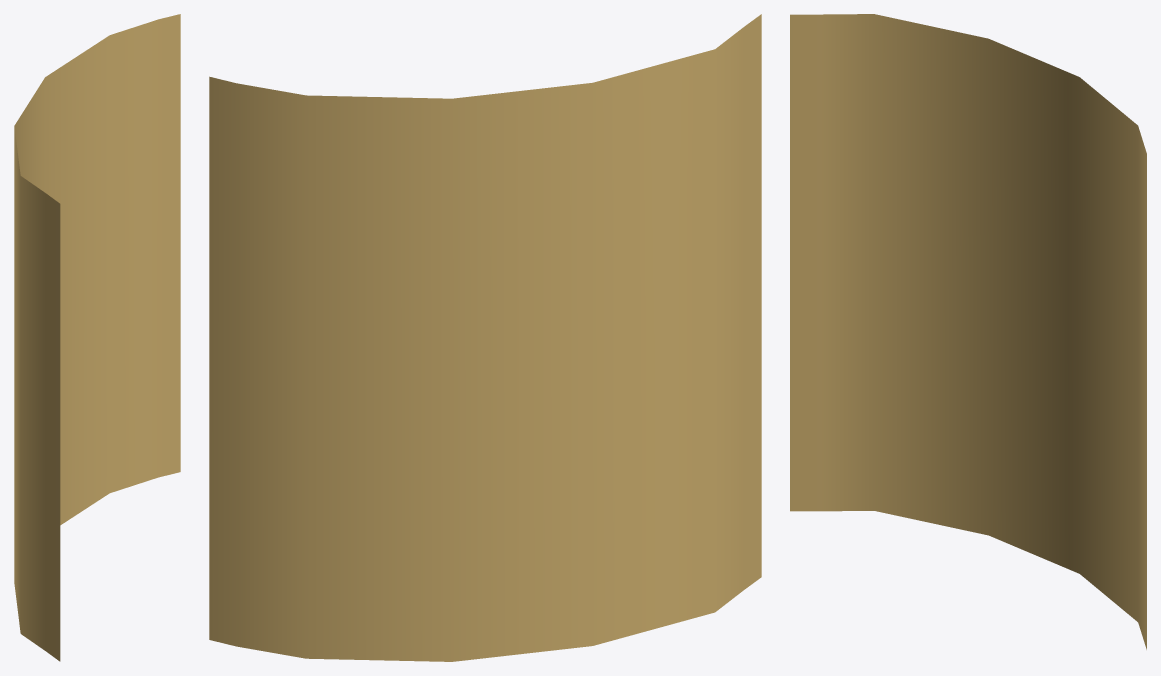
Rendered from SandBlock_Middle_Corner_Mesh.fbx.
The picture shows the model from 3 angles, left to right: view 1: azimuth 30°, elevation 25°; view 2: azimuth 150°, elevation 25°; view 3: azimuth 270°, elevation 25°; orthographic projection. The views are drawn at different scales.
Visible parts, largest first — view 1: SandBlock_Middle_Corner; view 2: SandBlock_Middle_Corner; view 3: SandBlock_Middle_Corner.
Boxes of the visible parts, x1,y1,x2,y2 form: SandBlock_Middle_Corner: (14, 14, 180, 661); SandBlock_Middle_Corner: (209, 14, 761, 661); SandBlock_Middle_Corner: (790, 14, 1146, 649).
Bounding box in the file's own units: 130 × 130 × 200.
